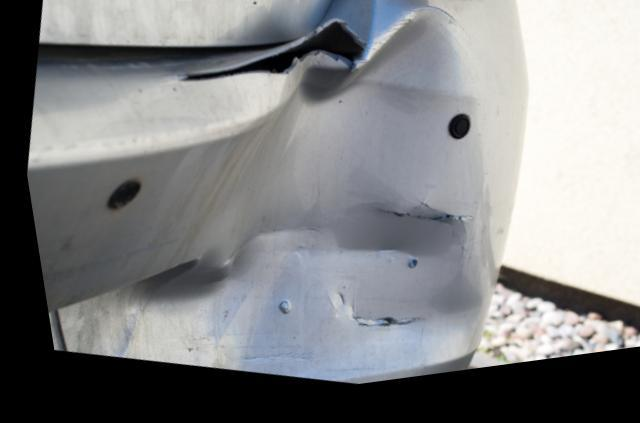crack: (171, 28, 366, 88)
dent: (118, 25, 479, 378)
